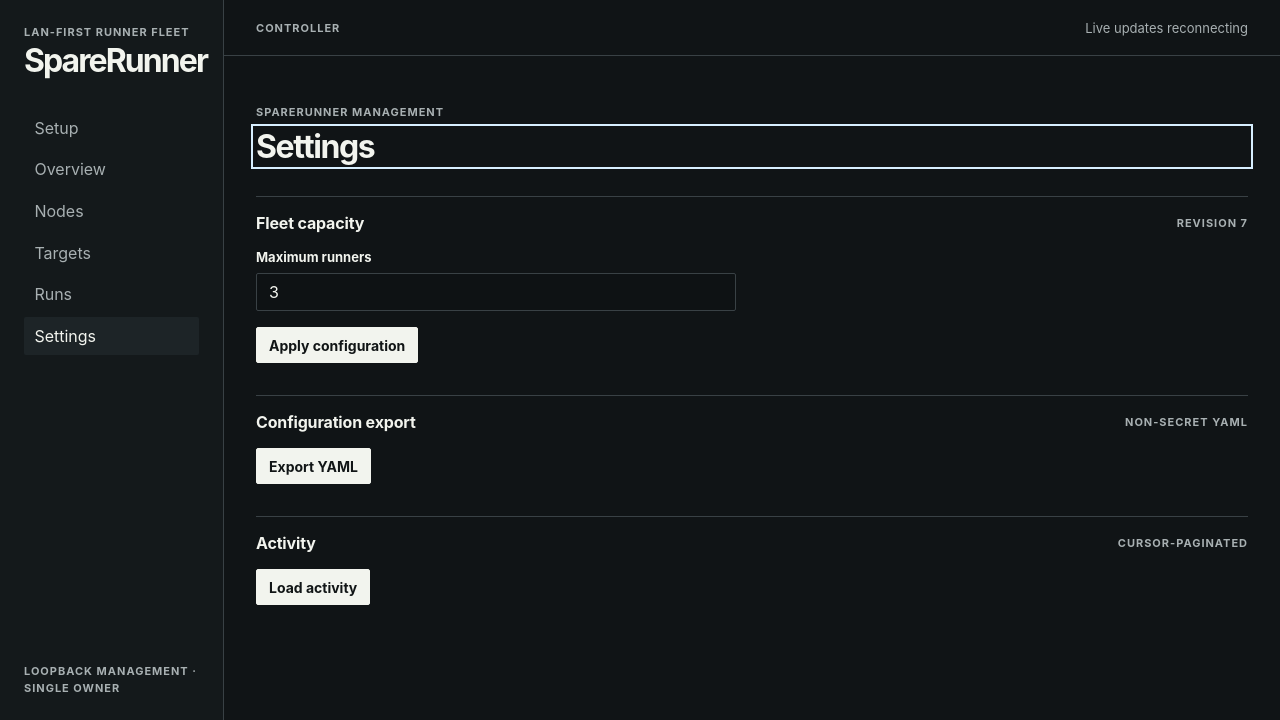
App › resumes append-only activity from the final-page cursor after SSE invalidation
Click the button "Load activity".
click(313, 587)  # box left=256, top=569, right=370, bottom=605
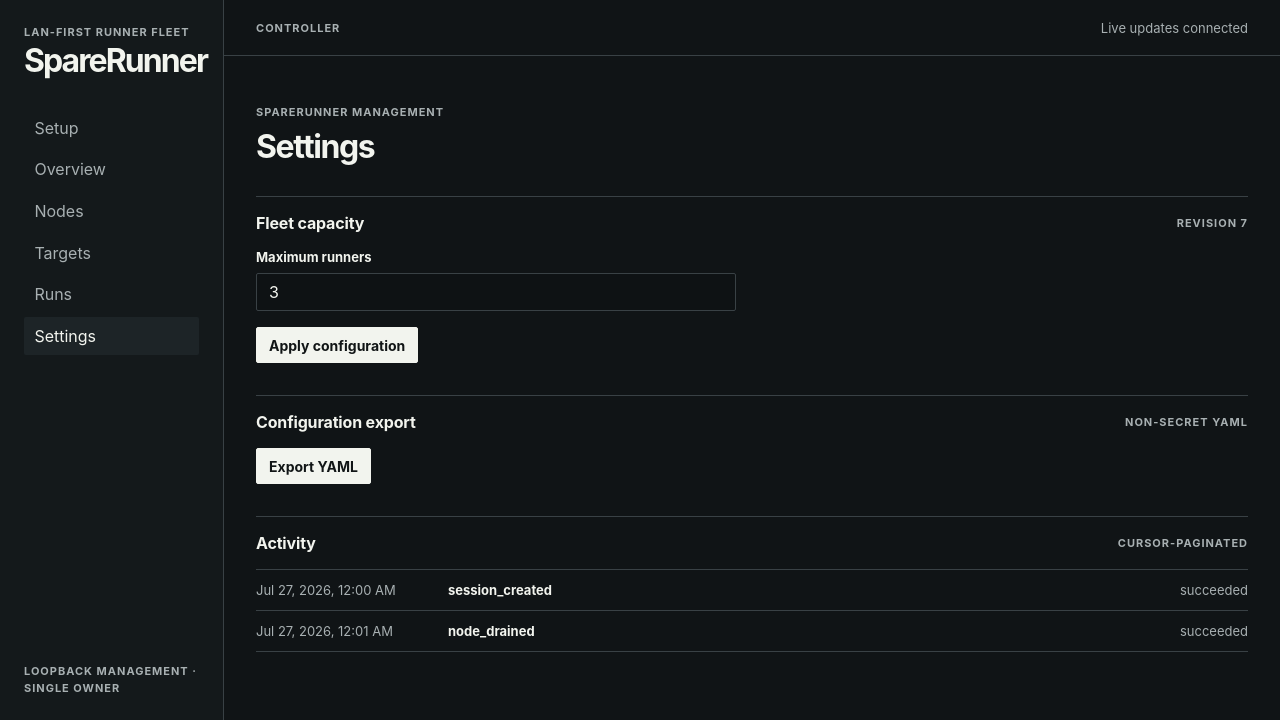
Expected: the text "session_created" is shown, left=448, top=582, right=552, bottom=598
Expected: the text "node_drained" is shown, left=448, top=623, right=535, bottom=639
